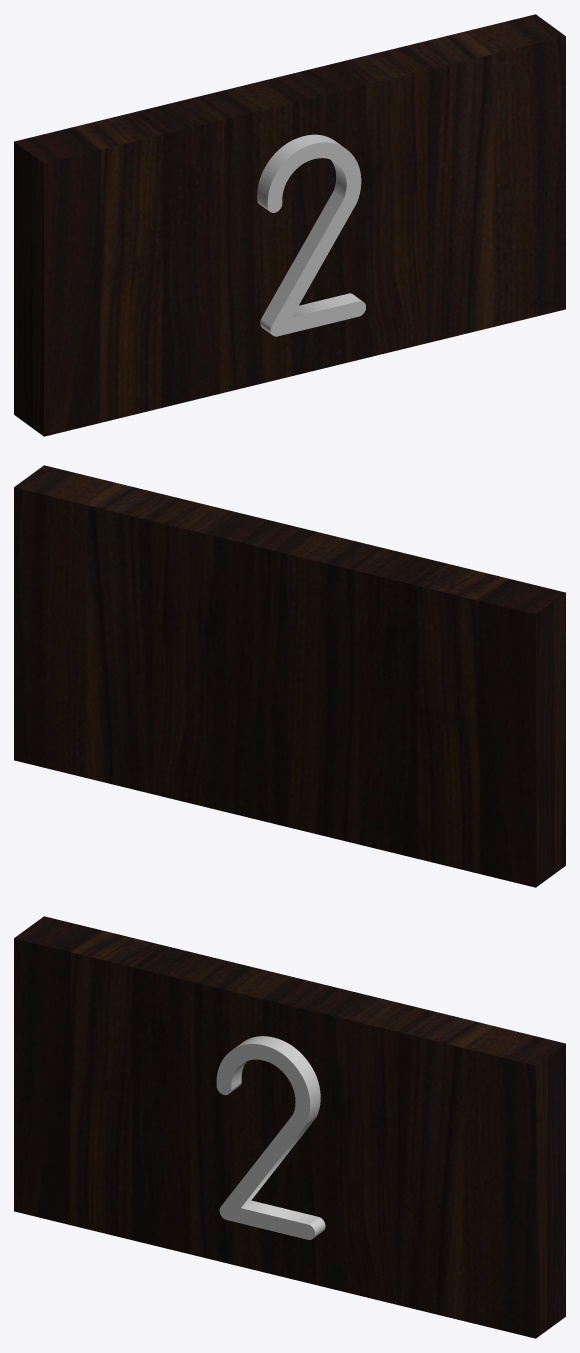
3 renders of one model, top to bottom at view 1: azimuth 30°, elevation 25°; view 2: azimuth 150°, elevation 25°; view 3: azimuth 330°, elevation 25°, orthographic.
Visible parts, largest first — view 1: Base, Text; view 2: Base; view 3: Base, Text.
Boxes of the visible parts, x1,y1,x2,y2 form: Base: (14, 14, 565, 436); Text: (257, 134, 365, 336); Base: (14, 465, 565, 887); Base: (14, 916, 565, 1338); Text: (216, 1036, 325, 1239).
Size of the model in its own units: 200 by 100 by 26.96.
